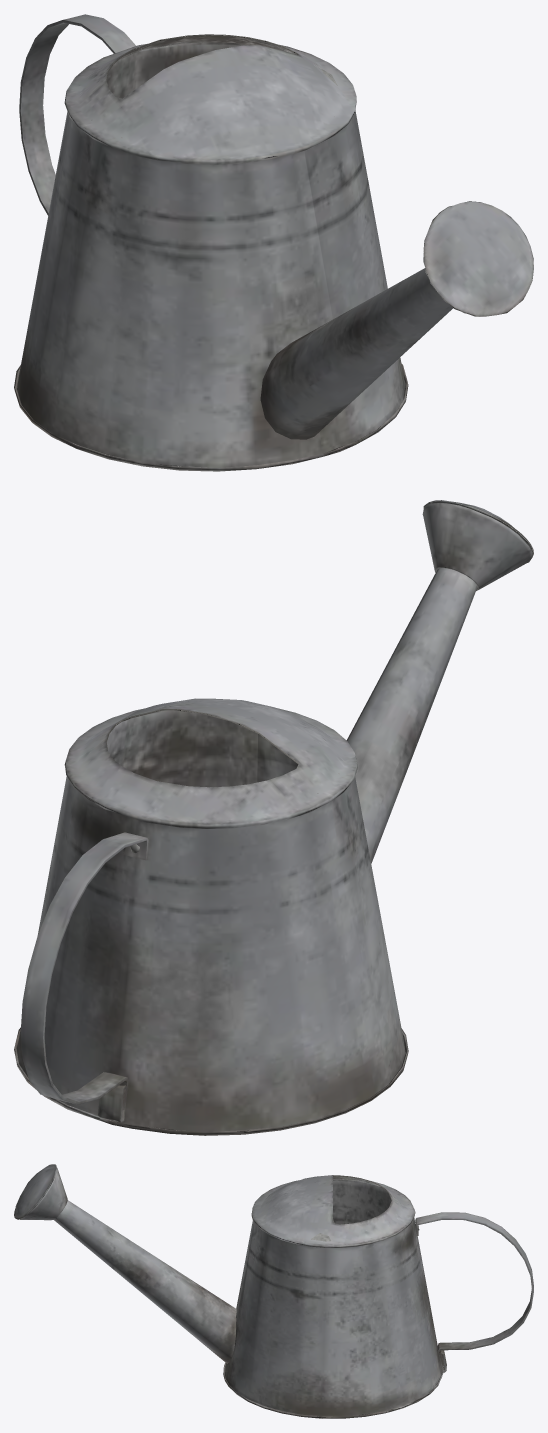
The model's file is watering_can_metal_01.glb.
3 renders of one model, top to bottom at view 1: azimuth 30°, elevation 25°; view 2: azimuth 150°, elevation 25°; view 3: azimuth 270°, elevation 25°, orthographic. The views are drawn at different scales.
Visible parts, largest first — view 1: watering_can_metal_01; view 2: watering_can_metal_01; view 3: watering_can_metal_01.
Boxes of the visible parts, x1,y1,x2,y2 form: watering_can_metal_01: (14, 14, 533, 471); watering_can_metal_01: (14, 500, 533, 1135); watering_can_metal_01: (14, 1164, 533, 1418).
Bounding box in the file's own units: 0.1905 × 0.1965 × 0.4521.
1 material, 1 textured.
